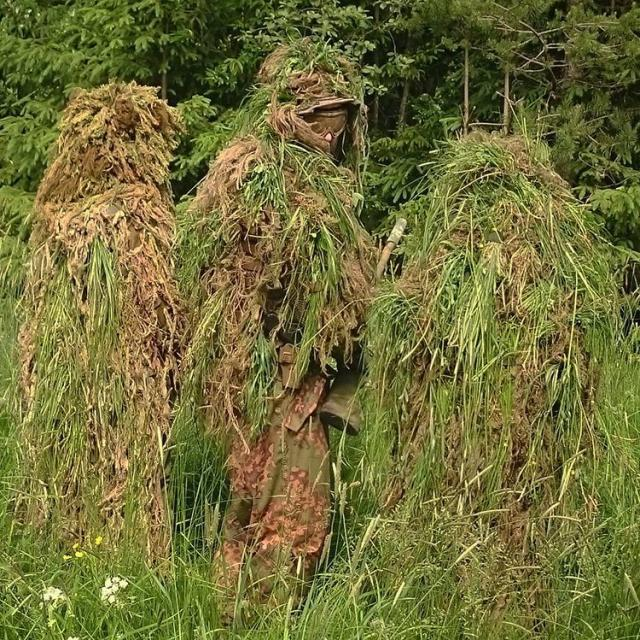Camouflage: (174, 37, 407, 632), (396, 131, 620, 615), (14, 81, 184, 576)
